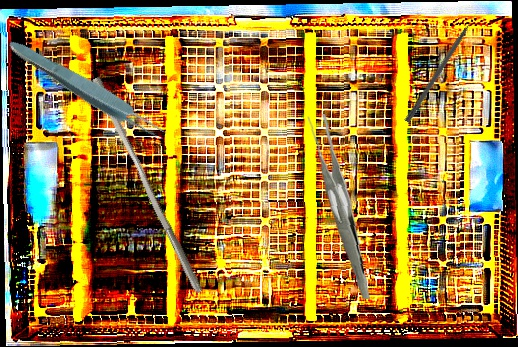Dressing Forceps: (297, 112, 380, 300)
Pusher: (84, 75, 212, 295), (404, 9, 482, 124)
Tissue Forceps: (3, 33, 171, 148)
